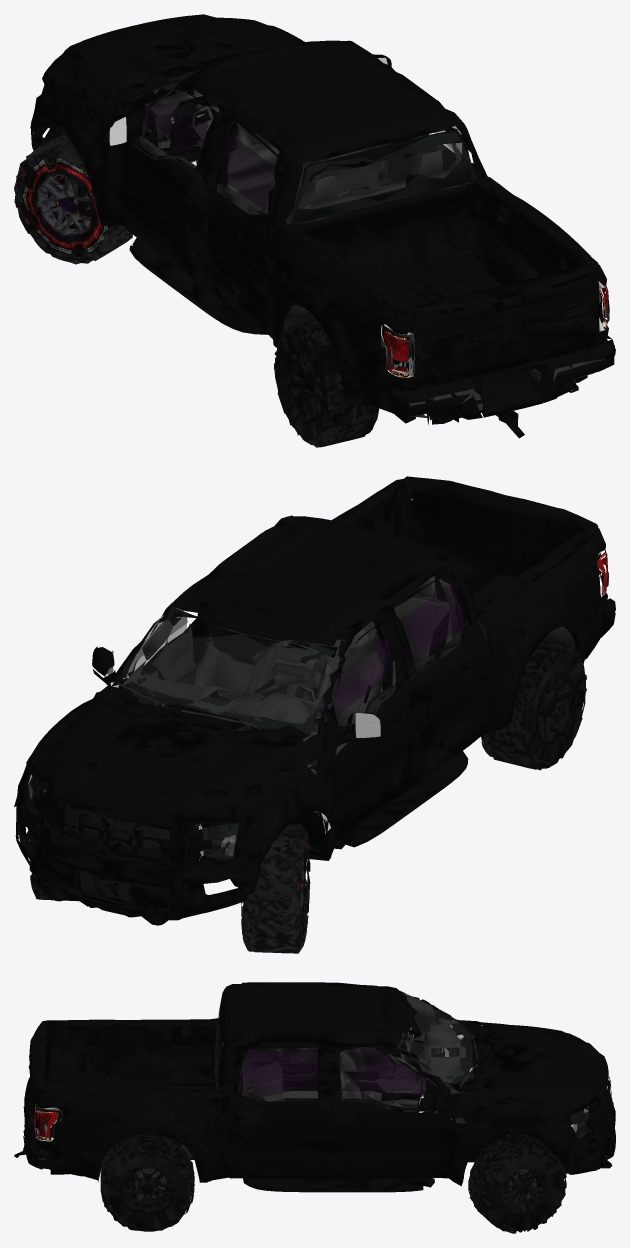
3 renders of one model, top to bottom at view 1: azimuth 30°, elevation 25°; view 2: azimuth 150°, elevation 25°; view 3: azimuth 270°, elevation 25°, orthographic. The views are drawn at different scales.
Visible parts, largest first — view 1: Object_56, Object_54, Object_12, Object_42, Object_39, Object_142, Object_90, Object_364, Object_145, Object_58, Object_10, Object_201 (+1 smaller); view 2: Object_56, Object_54, Object_12, Object_142, Object_39, Object_42, Object_364, Object_90, Object_84, Object_201, Object_10, Object_145 (+3 smaller); view 3: Object_56, Object_54, Object_12, Object_47, Object_39, Object_142, Object_364, Object_201, Object_145, Object_87, Object_90, Object_14 (+1 smaller).
Part boxes in pixels (x1,y1,x2,y2): Object_56: (30, 14, 614, 419); Object_54: (33, 46, 615, 438); Object_12: (128, 67, 476, 223); Object_42: (14, 133, 132, 264); Object_39: (274, 318, 578, 447); Object_142: (144, 82, 461, 224); Object_90: (127, 73, 476, 380); Object_364: (129, 238, 268, 334); Object_145: (155, 106, 604, 418); Object_58: (421, 301, 595, 353); Object_10: (106, 90, 223, 179); Object_201: (217, 134, 456, 214); Object_56: (14, 505, 615, 918); Object_54: (17, 476, 615, 925); Object_12: (27, 572, 464, 860); Object_142: (123, 576, 458, 812); Object_39: (481, 639, 586, 770); Object_42: (241, 824, 310, 953); Object_364: (334, 751, 468, 849); Object_90: (111, 595, 575, 887); Object_84: (63, 805, 169, 905); Object_201: (128, 590, 463, 695); Object_10: (324, 615, 408, 774); Object_145: (142, 555, 599, 725); Object_56: (23, 982, 615, 1186); Object_54: (14, 1012, 615, 1178); Object_12: (215, 991, 588, 1138); Object_47: (468, 1134, 566, 1233); Object_39: (100, 1134, 194, 1231); Object_142: (222, 995, 466, 1123); Object_364: (243, 1174, 434, 1192); Object_201: (243, 1047, 438, 1113); Object_145: (35, 1024, 427, 1176); Object_87: (353, 1064, 464, 1102); Object_90: (46, 990, 487, 1174); Object_14: (359, 1016, 440, 1066).
Size of what is drawn, in the model's own units: 2.55 by 2.02 by 6.1.
Materials: 40 (23 with a texture image).
